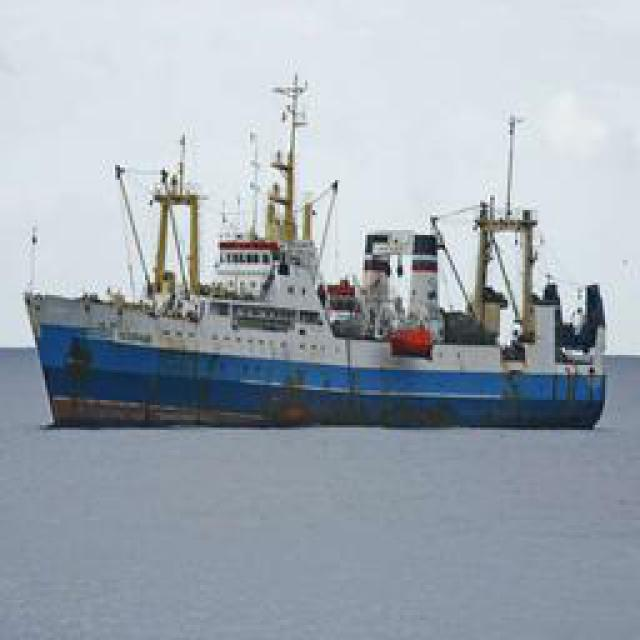Ship: (30, 67, 630, 420)
